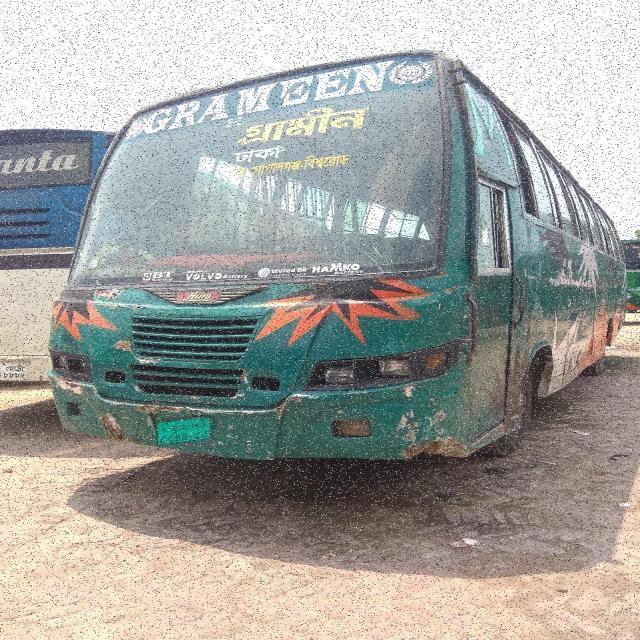numberplate: (156, 415, 215, 446)
